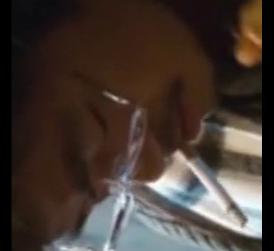Cigarette: (178, 146, 248, 226)
